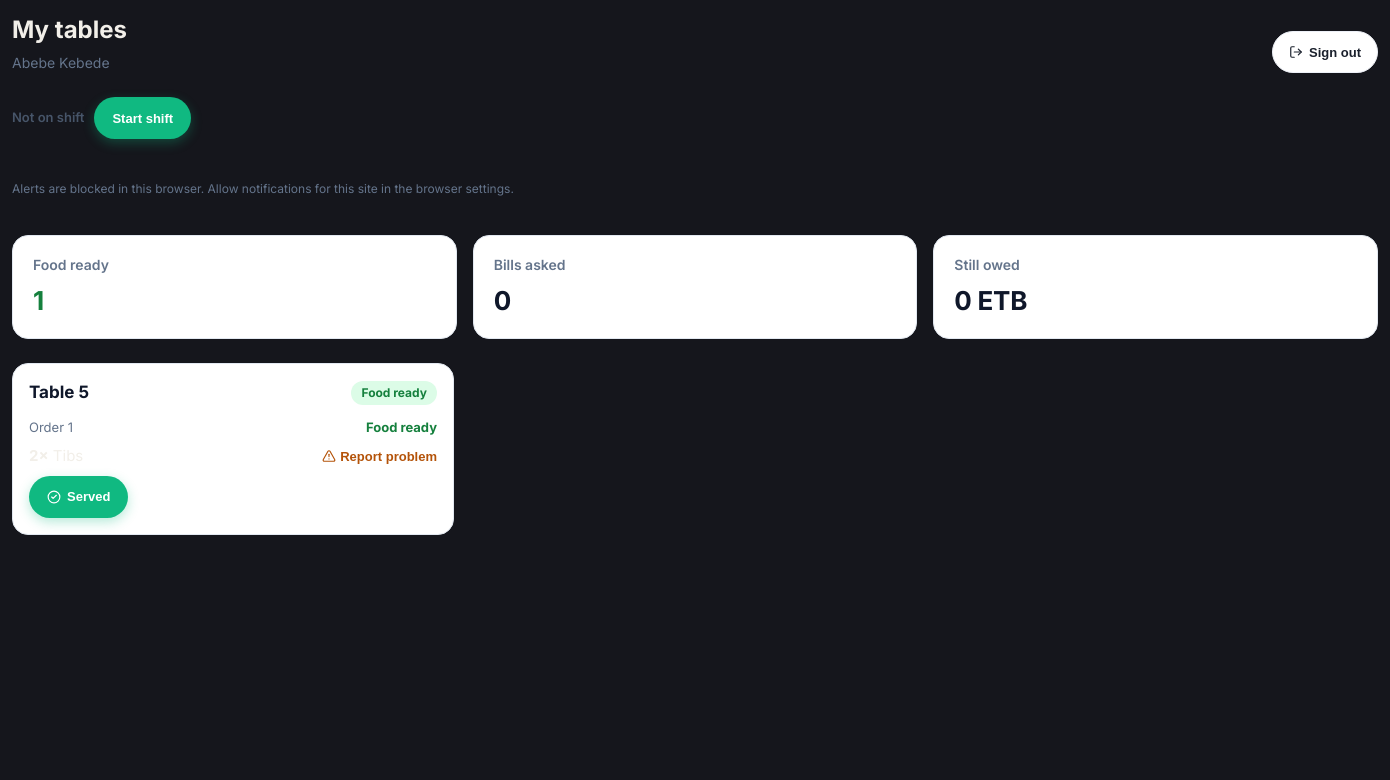
Test: WaiterTablesScreen › marks food served and reloads
Step 1. Click the button "Served" → [79, 496], box [29,476,128,518]
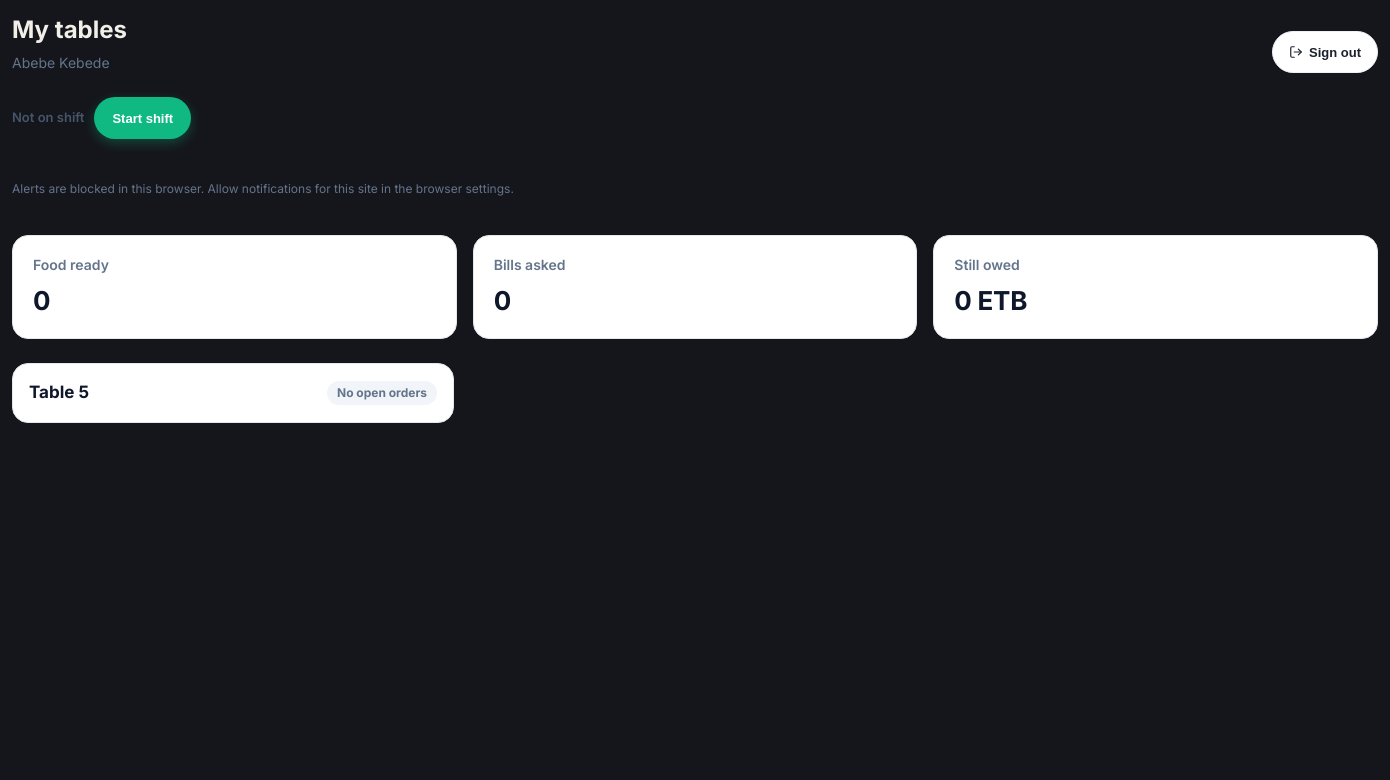
Result: the text "No open orders" is shown at [327,381,437,405]
